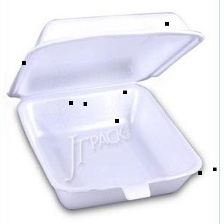foam_box: (3, 6, 210, 212)
